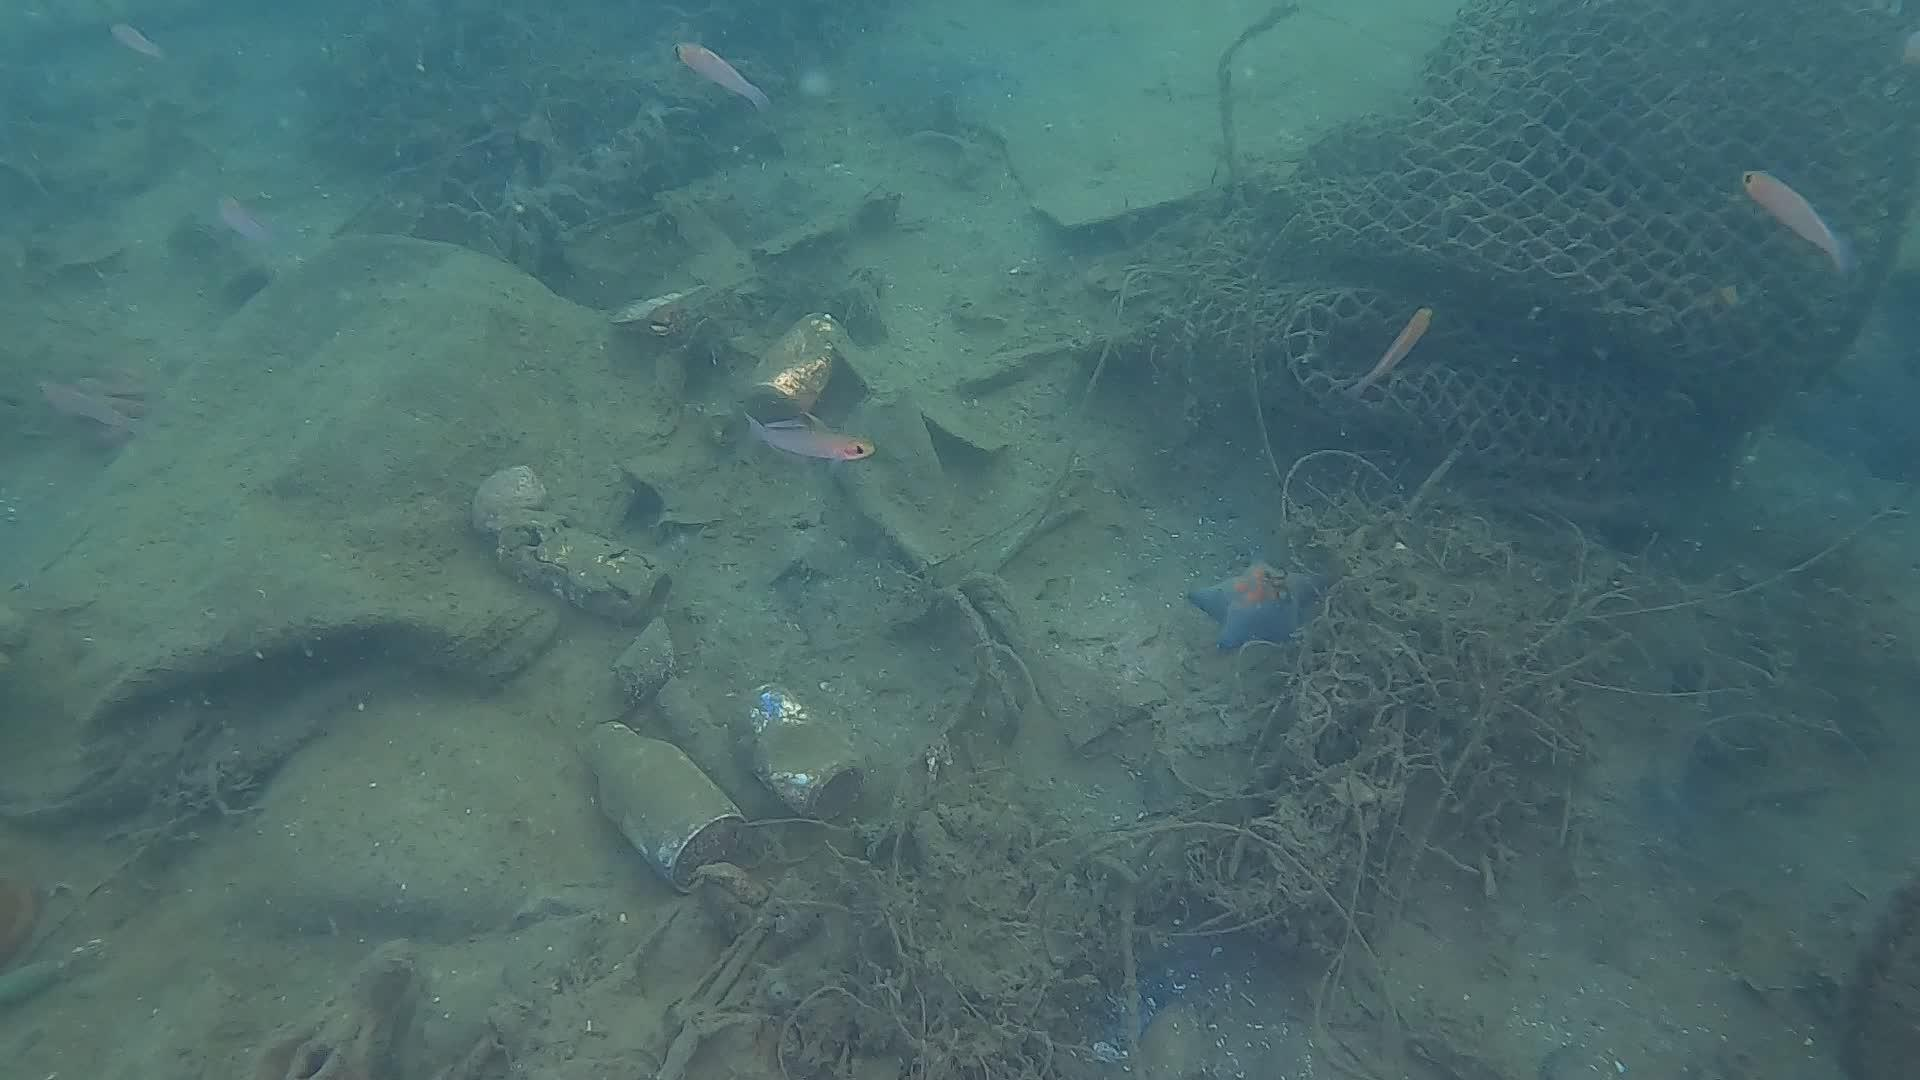fish net: (1276, 0, 1920, 484)
